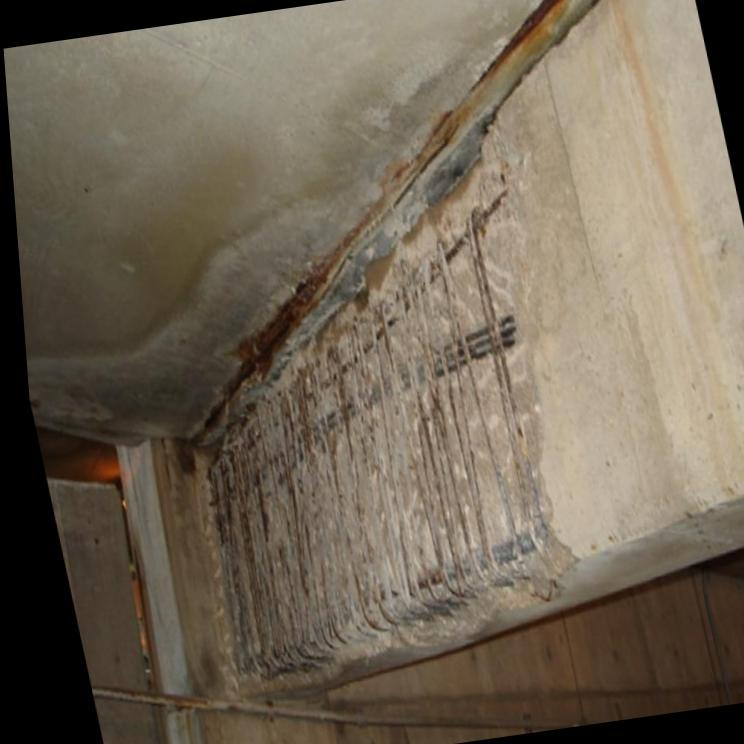damage: (190, 126, 565, 699)
